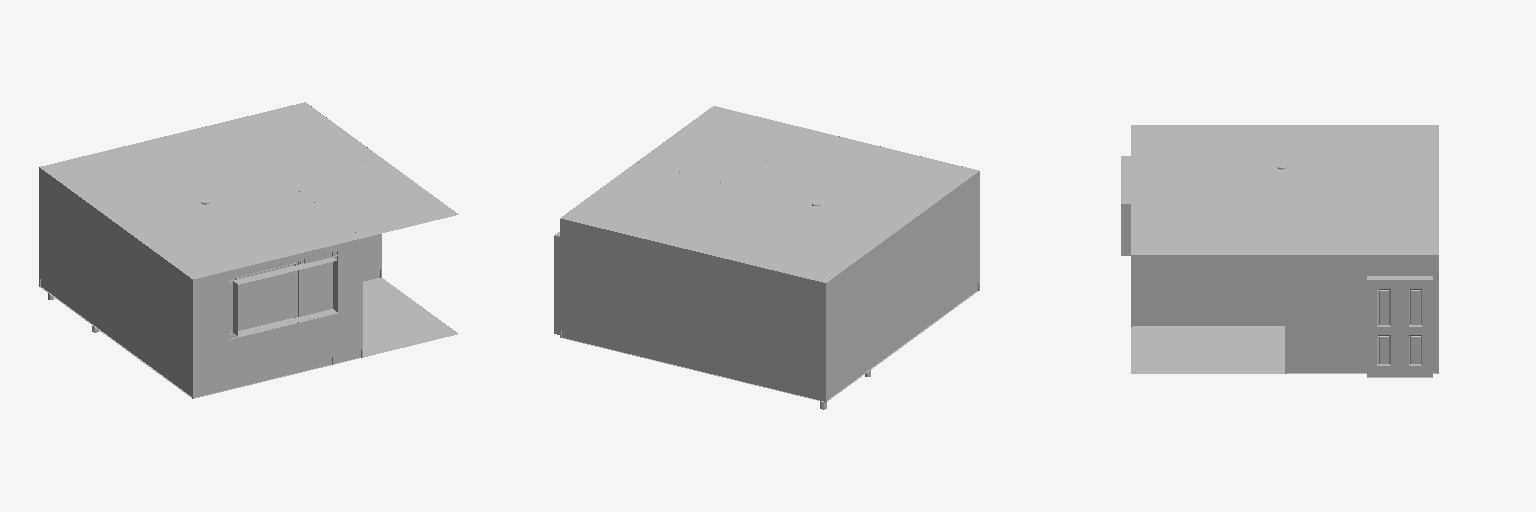
The model's file is Bedroom.obj.
3 views of the same model, side by side, from view 1: azimuth 30°, elevation 25°; view 2: azimuth 150°, elevation 25°; view 3: azimuth 270°, elevation 25° (orthographic).
Parts seen in each view (by area): view 1: Object01, Walls, Floor, Plane01, Box01, Window_Frame; view 2: Walls, Object01, Box01; view 3: Object01, Walls, Floor, Box02, Box01, Window_Frame.
Part boxes in pixels (x1,y1,x2,y2): Object01: (40, 102, 458, 279); Walls: (39, 105, 381, 390); Floor: (41, 278, 457, 398); Plane01: (238, 256, 333, 330); Box01: (39, 270, 381, 398); Window_Frame: (229, 251, 337, 339); Walls: (560, 136, 979, 393); Object01: (560, 106, 978, 282); Box01: (554, 232, 979, 402); Object01: (1131, 125, 1438, 254); Walls: (1131, 255, 1438, 365); Floor: (1131, 326, 1436, 373); Box02: (1367, 277, 1432, 376); Box01: (1131, 276, 1438, 377); Window_Frame: (1121, 156, 1130, 255).
Size of the model in its own units: 285 by 130 by 285.